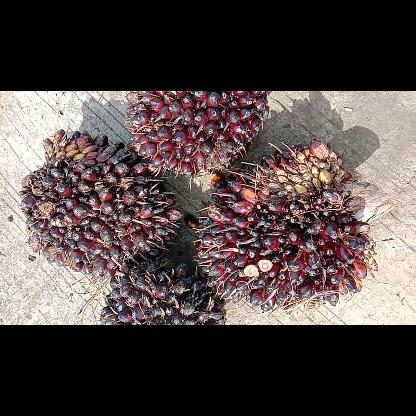TBS mentah: (192, 136, 380, 314), (16, 125, 184, 279), (121, 90, 271, 178), (96, 260, 228, 324)
